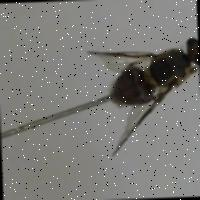Oriental-fruit-fly: (77, 26, 200, 158)
